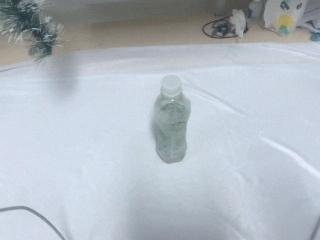bottle: (153, 75, 192, 164)
